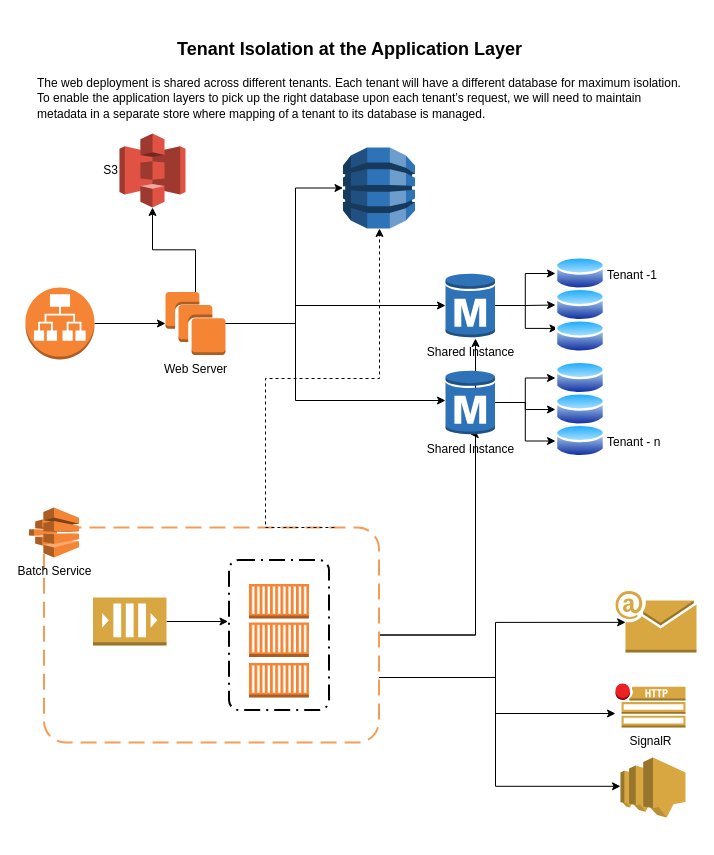
This 714x855 diagram has some shape labels left out. Each missing label, with the centre of its shape:
Email: pixel 655 621
Loadbalncer: pixel 59 323
Metadata: pixel 378 187
SNS: pixel 653 787
